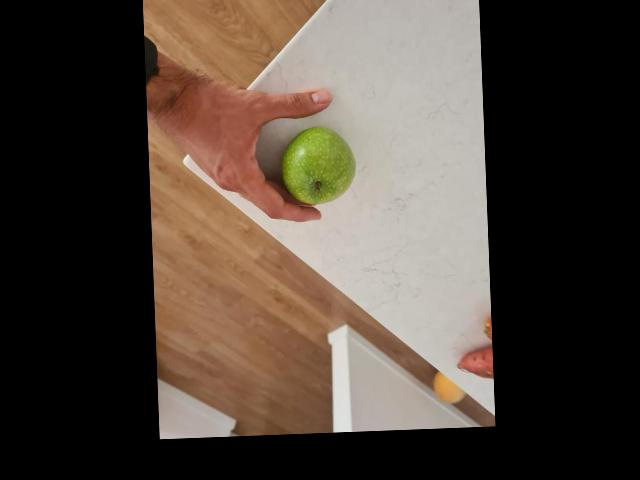apple: (286, 125, 352, 204)
